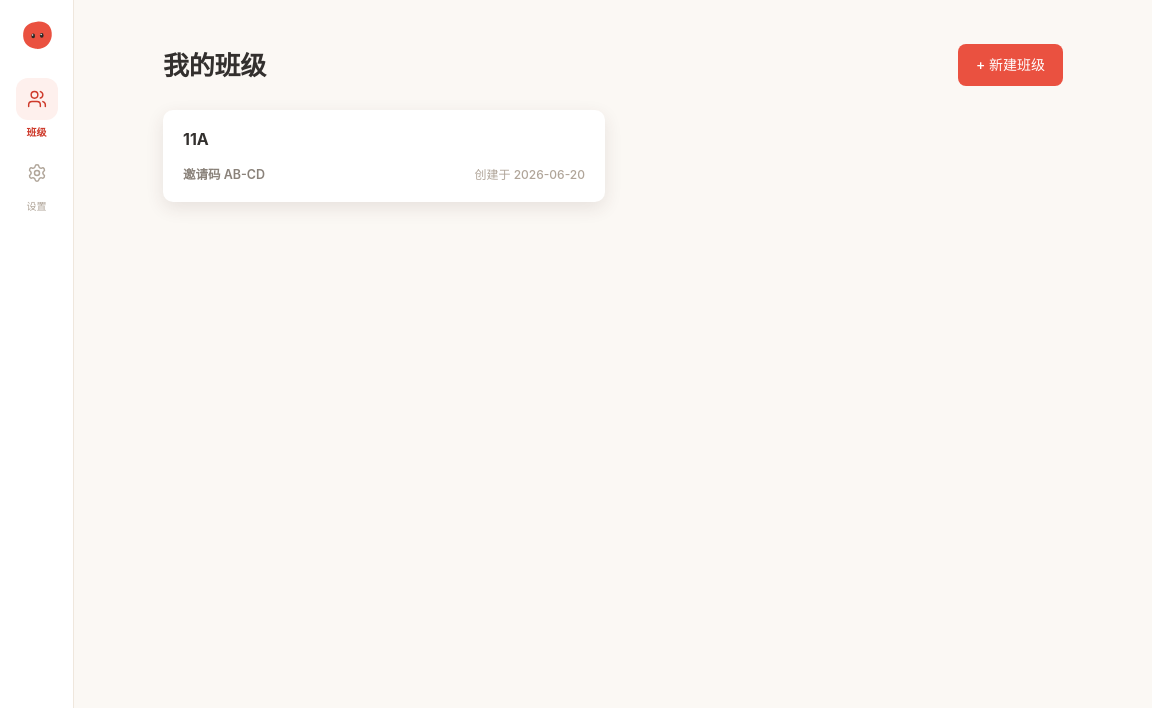
ConsoleShell › opens a class detail when a card is clicked, and 返回 goes back
What coordinates should you click on to do the following:
click the text "11A"
I would click on:
 (196, 139)
Its box is [183, 129, 209, 149].
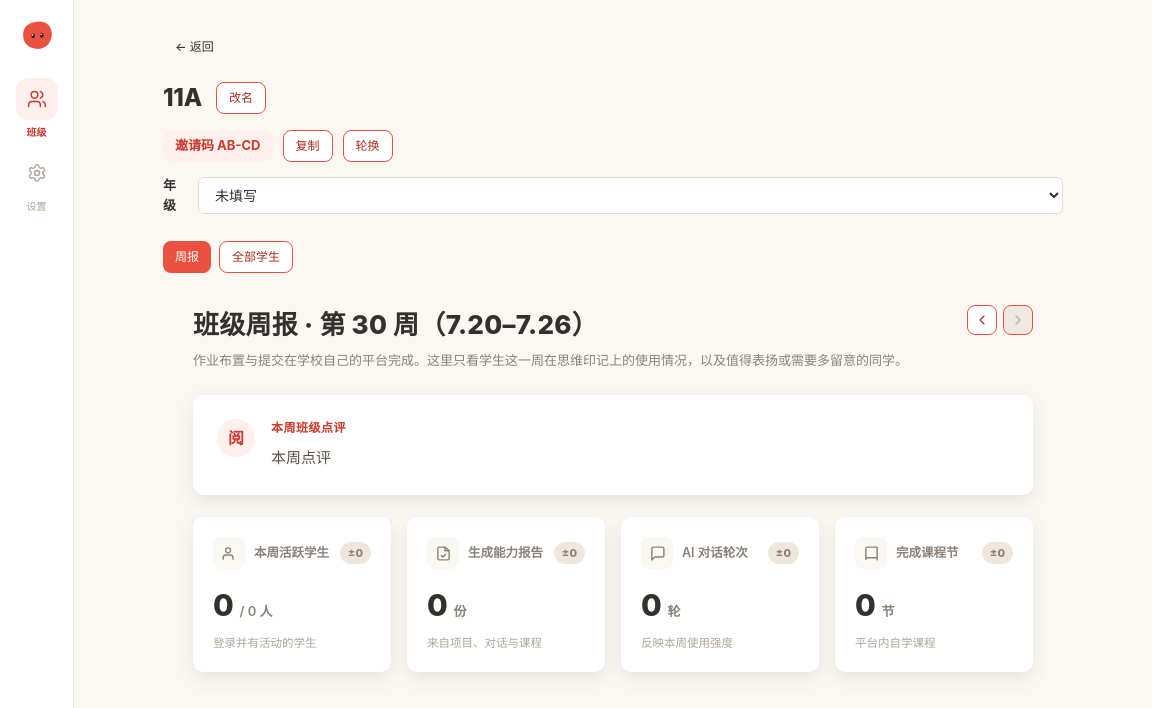
What coordinates should you click on to do the following:
click the button "全部学生"
I would click on:
 (256, 257)
Its box is [219, 241, 293, 273].
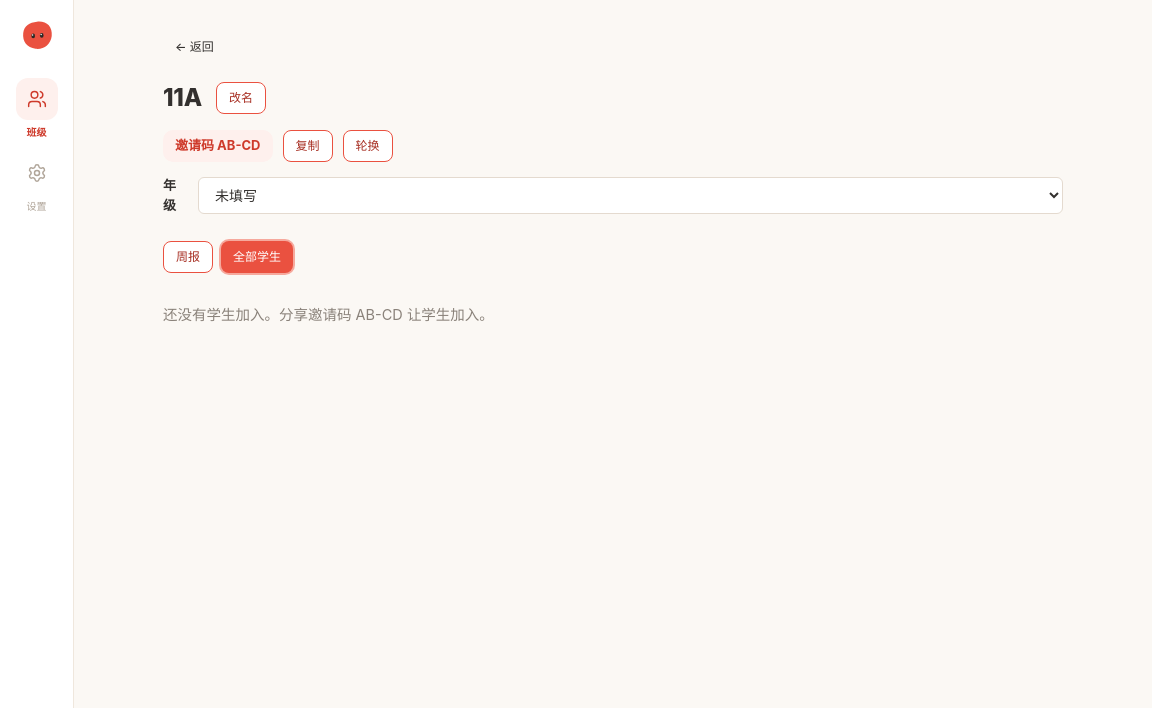
Expected: the text "还没有学生加入。分享邀请码 AB-CD 让学生加入。" is shown, [163, 306, 494, 323]
What coordinates should you click on to do the following:
click the button "← 返回"
I would click on:
 (194, 47)
Its box is [163, 32, 226, 62].
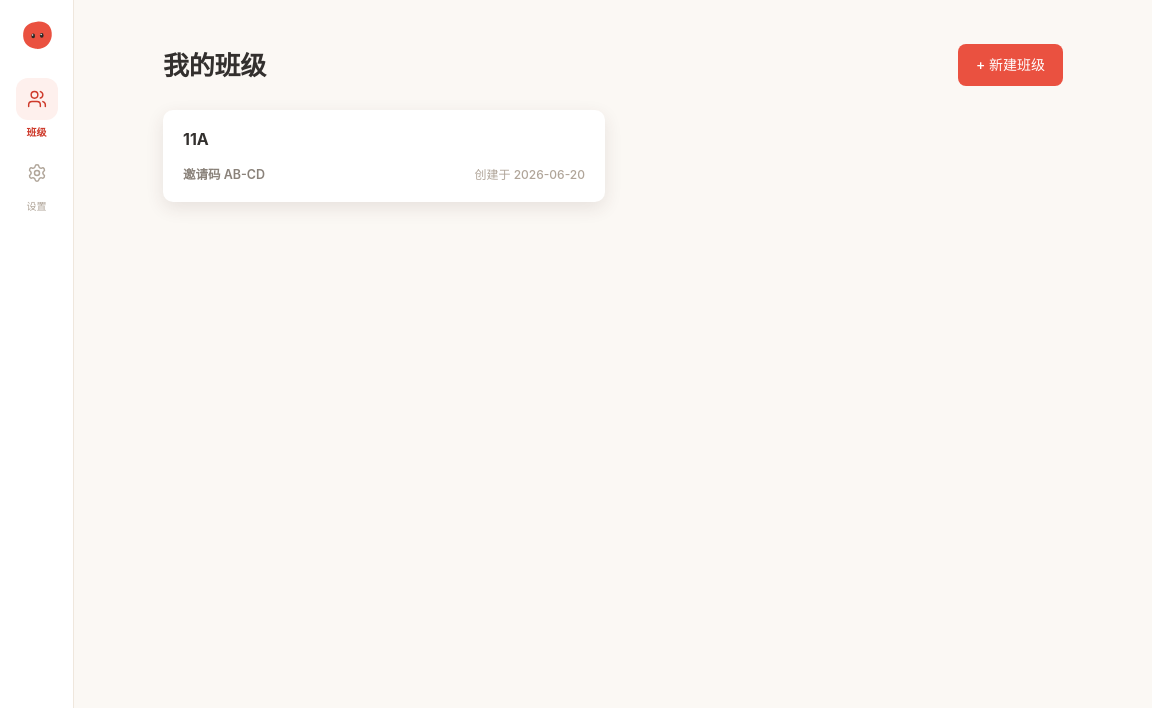
Expected: the text "我的班级" is shown, [163, 46, 266, 85]
